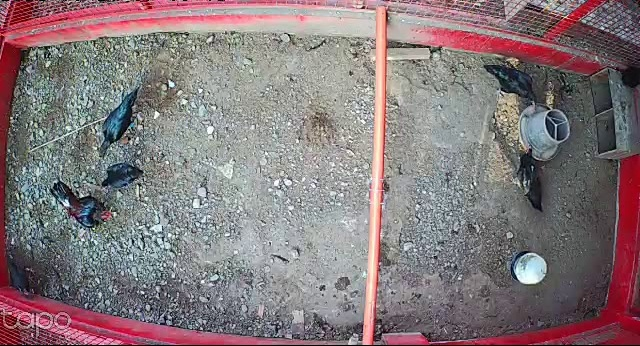Chicken: (99, 86, 142, 156), (482, 60, 539, 106), (510, 143, 546, 213), (98, 163, 150, 190)
Drinker: (509, 250, 549, 286)
Feeder: (516, 102, 569, 162)
Rooster: (48, 181, 115, 228)
